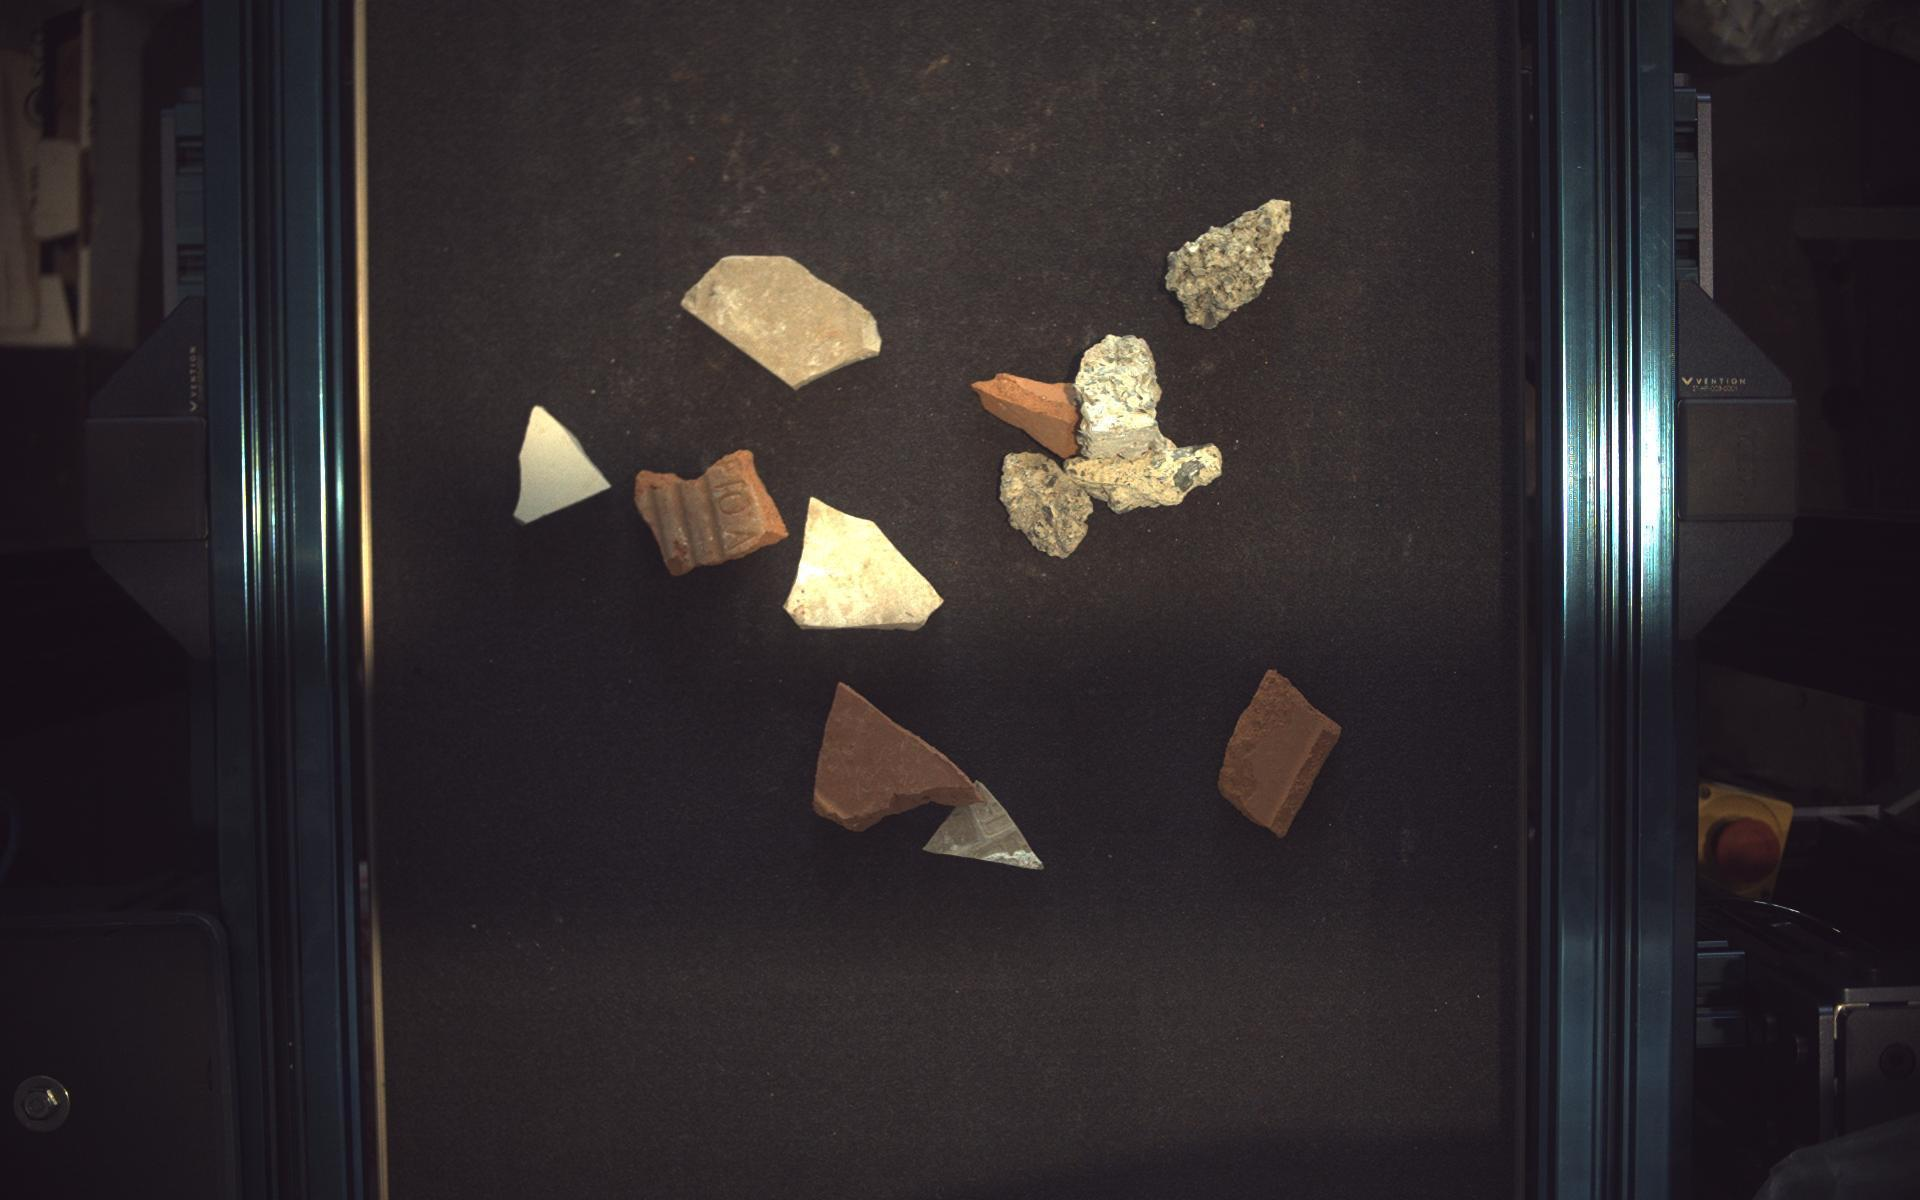brick: (814, 683, 986, 834), (1221, 671, 1345, 838), (636, 451, 788, 576), (972, 372, 1082, 458)
concrete: (1067, 335, 1225, 513), (1168, 198, 1292, 328), (1001, 452, 1095, 559)
tile: (681, 254, 883, 388), (787, 496, 944, 630), (513, 405, 611, 523), (925, 782, 1044, 870)
